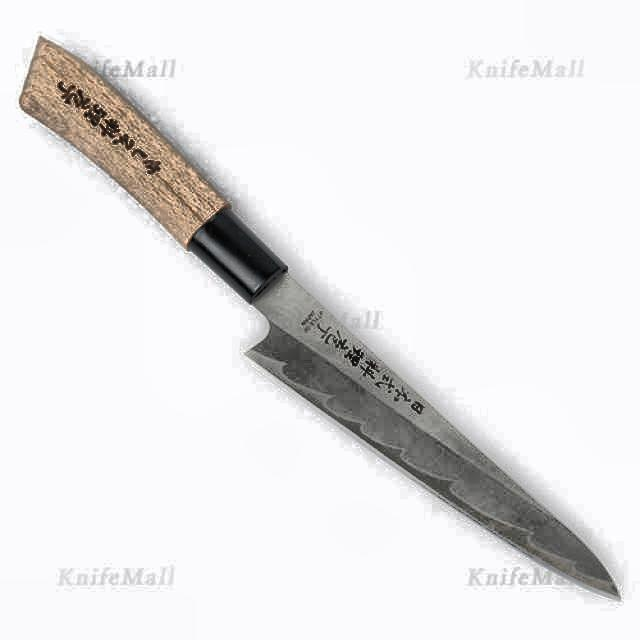knife: (18, 33, 628, 600)
